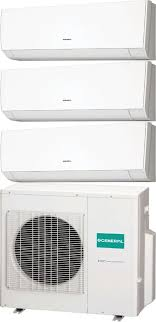ac: (1, 63, 156, 127), (1, 128, 153, 187), (1, 4, 156, 60)
